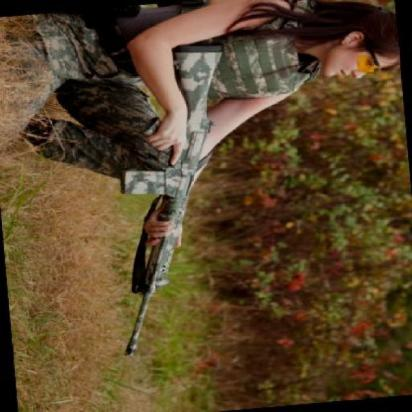Gun: (79, 44, 258, 360)
